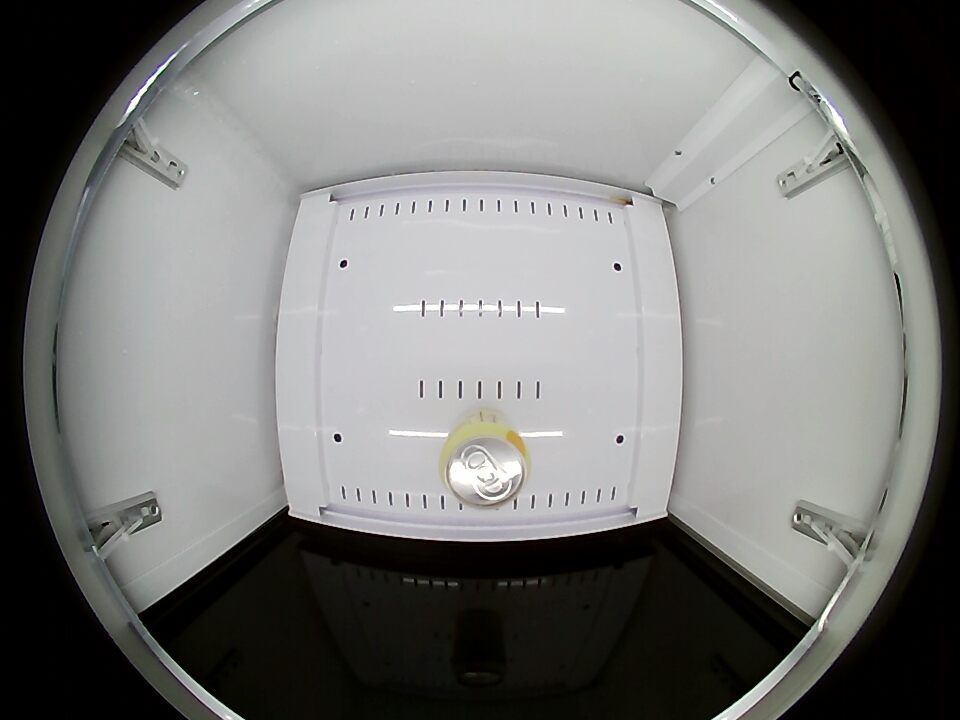mangguoxiaolao: (440, 421, 531, 508)
